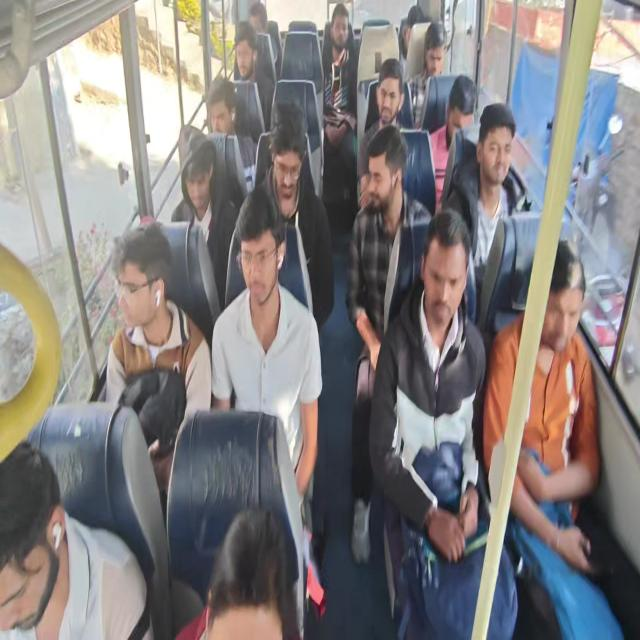person: (98, 2, 623, 637), (368, 208, 519, 638), (482, 238, 626, 638), (345, 124, 434, 564), (210, 186, 323, 508), (0, 439, 154, 639), (105, 217, 212, 502), (225, 99, 335, 334), (442, 102, 519, 323), (174, 506, 300, 639), (172, 134, 236, 311), (320, 2, 358, 222), (356, 57, 408, 211), (428, 74, 477, 210), (206, 78, 257, 194), (232, 20, 274, 131), (406, 21, 446, 128)
